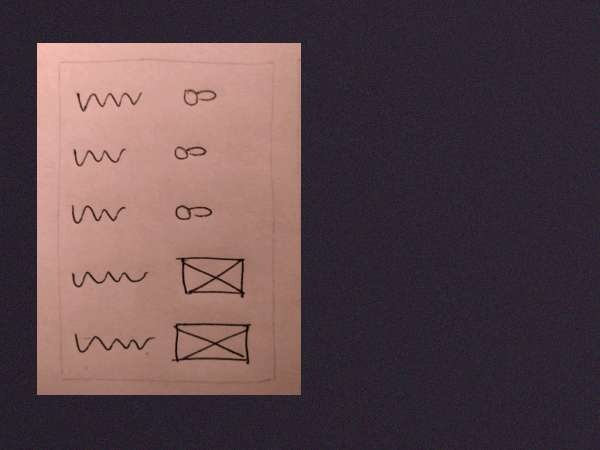image: (167, 317, 256, 370), (170, 250, 255, 303)
switch: (166, 138, 215, 166), (172, 199, 217, 225), (181, 83, 221, 109)
text: (69, 327, 160, 361), (66, 264, 159, 293), (68, 140, 132, 176), (73, 86, 146, 116), (68, 198, 129, 227)
